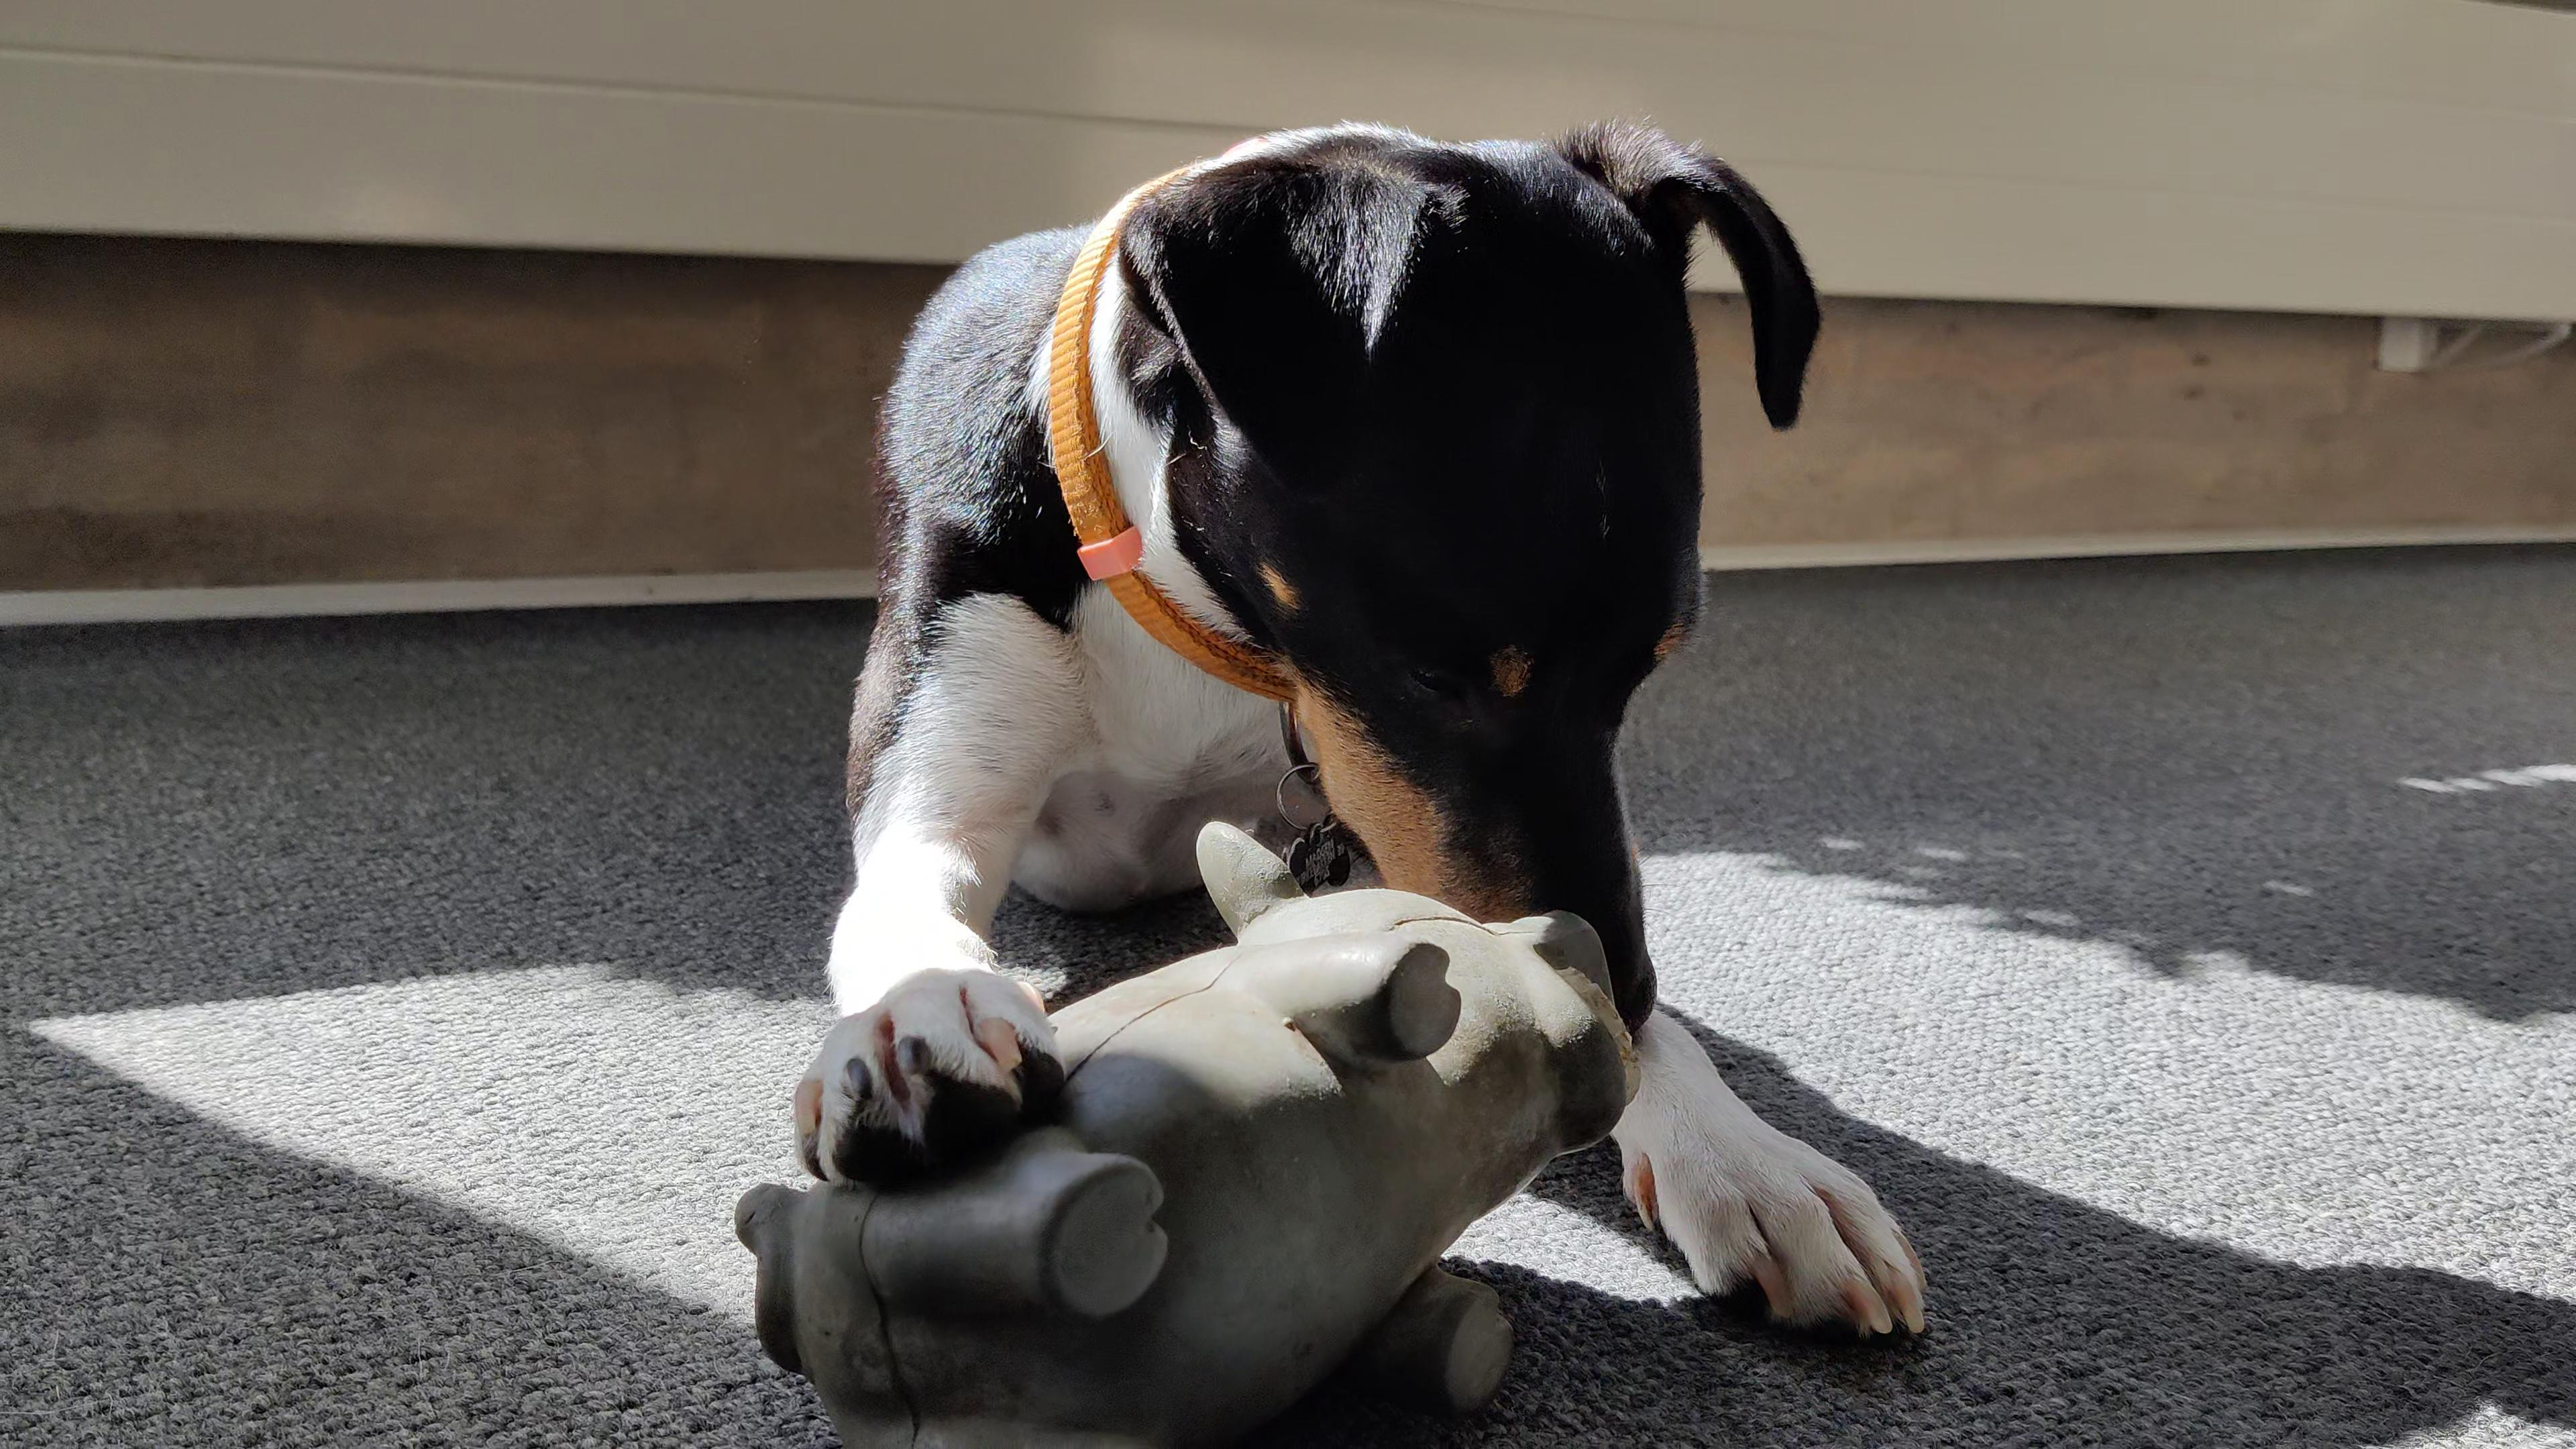Dog: (743, 101, 1966, 1373)
